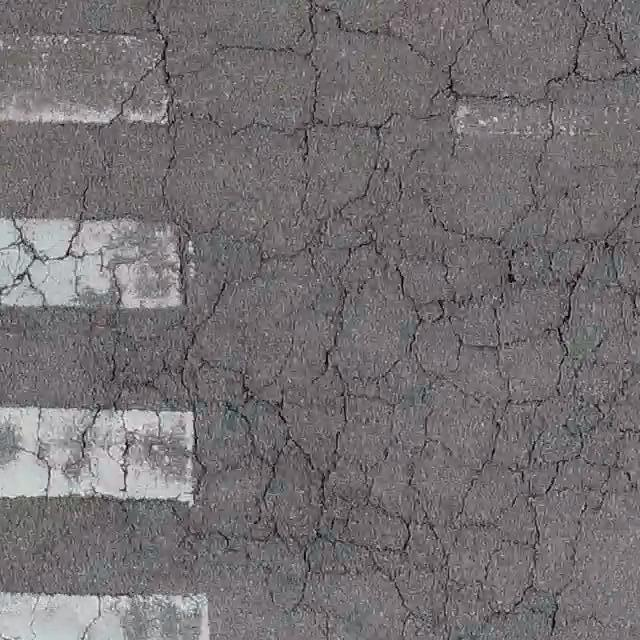GRIETA: (150, 0, 167, 38)
PIEL DE COCODRILO: (0, 0, 639, 639)
